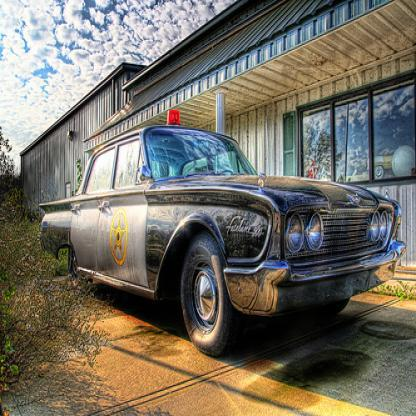car: (32, 114, 405, 346)
